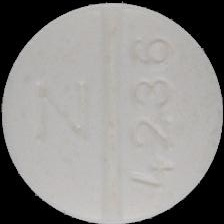0093-4236: (0, 0, 224, 224)
